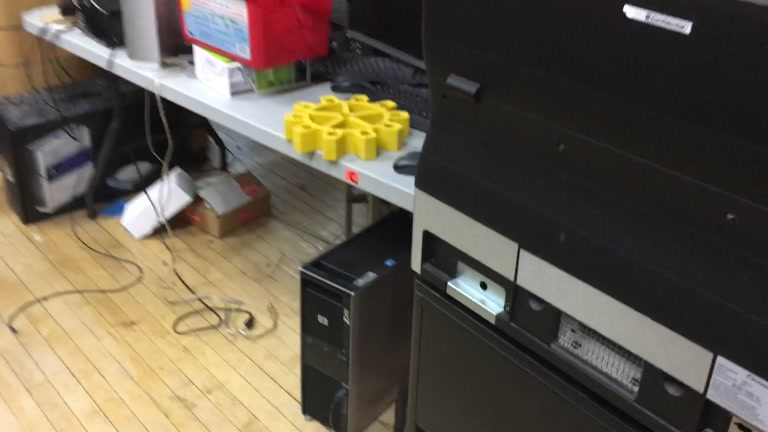gear: (283, 93, 412, 164)
